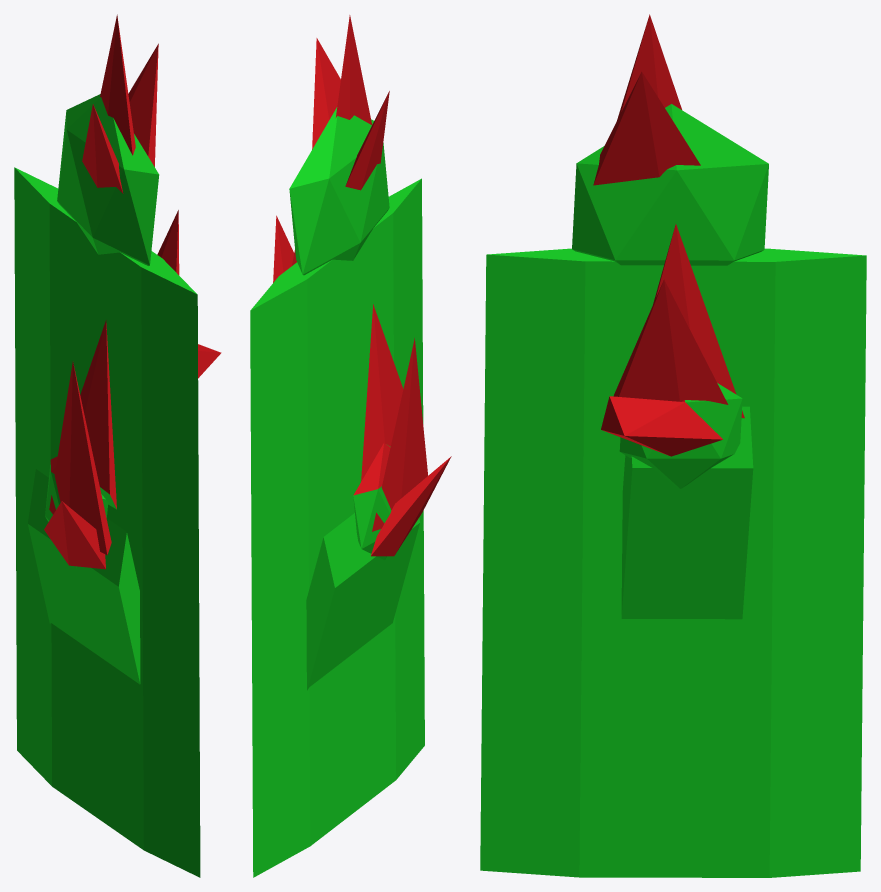
Rendered from cactus.gltf.
The picture shows the model from 3 angles, left to right: view 1: azimuth 30°, elevation 25°; view 2: azimuth 150°, elevation 25°; view 3: azimuth 270°, elevation 25°; orthographic projection. The views are drawn at different scales.
Parts seen in each view (by area): view 1: Cone.002; view 2: Cone.002; view 3: Cone.002.
Boxes of the visible parts, x1,y1,x2,y2 form: Cone.002: (14,14,221,877); Cone.002: (250,15,451,877); Cone.002: (480,14,866,877).
Size of the model in its own units: 0.0636 by 0.2852 by 0.1164.
